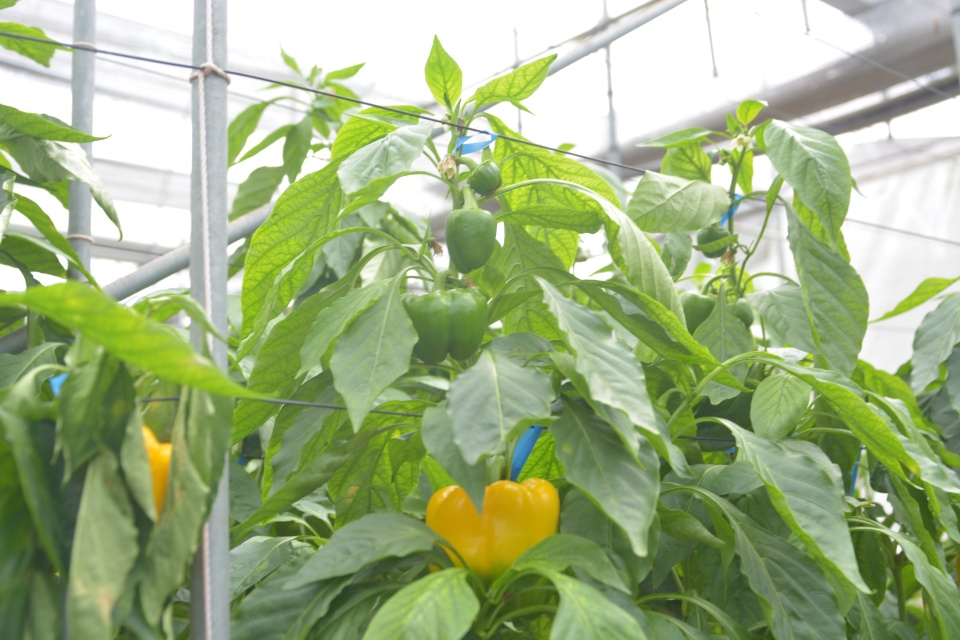flower: (727, 132, 758, 157), (436, 152, 459, 181)
fruit: (423, 474, 561, 634), (397, 282, 489, 368), (139, 422, 176, 521)
immature: (442, 206, 498, 274), (679, 289, 717, 336), (464, 157, 504, 198), (696, 222, 731, 259)
